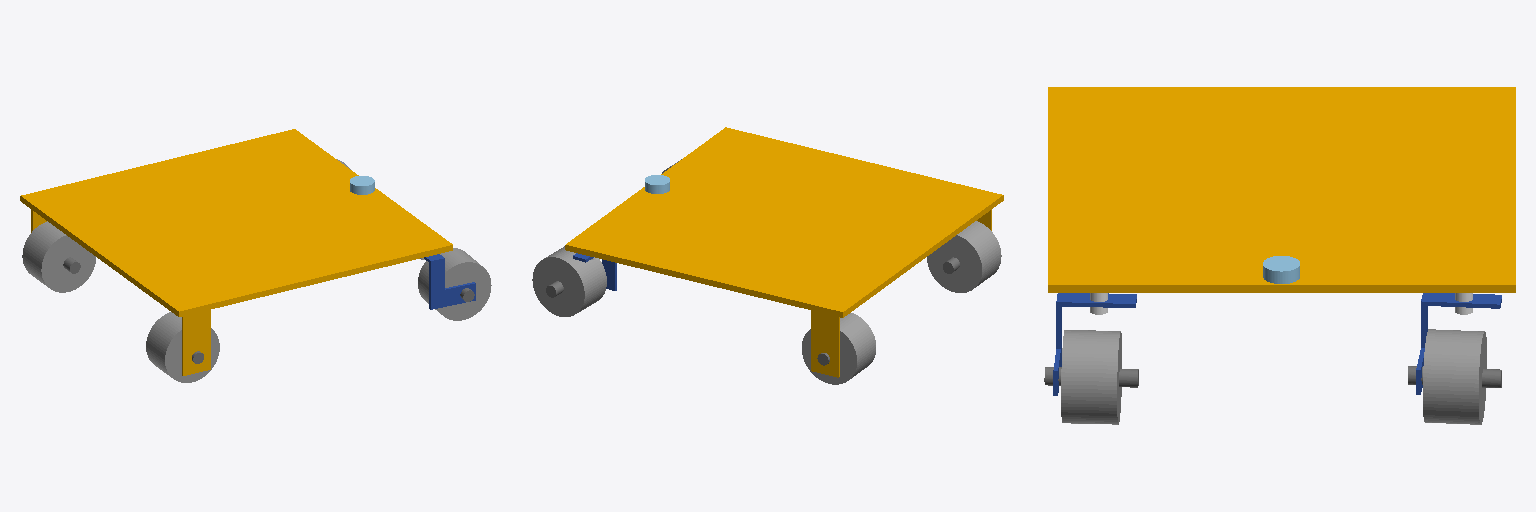
robot.urdf — walker:
<?xml version="1.0" ?>
<!-- Generated using onshape-to-robot -->
<!-- Onshape https://cad.onshape.com/documents/e7eaa5f69740a46df86640b5/w/4beb8b55b0f9d7a3251ff0fb/e/df4ddac1db6dbfc8b2ea36b0 -->
<robot name="walker">
  <!-- Link part4__cut_extrude1 -->
  <link name="part4__cut_extrude1">
    <inertial>
      <origin xyz="0.00737596 0.00816701 -0.00747482" rpy="0 0 0"/>
      <mass value="7.16145"/>
      <inertia ixx="0.158992" ixy="0" ixz="-0.00462613" iyy="0.161486" iyz="0" izz="0.316607"/>
    </inertial>
    <!-- Part part2__boss_extrude1 -->
    <visual>
      <origin xyz="-0.197626 -0.236833 -0.0917082" rpy="-3.14159 -0 -3.14159"/>
      <geometry>
        <mesh filename="package://my_robot_description/meshes/part2__boss_extrude1.stl"/>
      </geometry>
      <material name="part2__boss_extrude1_material">
        <color rgba="0.498039 0.498039 0.498039 1"/>
      </material>
    </visual>
    <collision>
      <origin xyz="-0.197626 -0.236833 -0.0917082" rpy="-3.14159 -0 -3.14159"/>
      <geometry>
        <mesh filename="package://my_robot_description/meshes/part2__boss_extrude1.stl"/>
      </geometry>
    </collision>
    <!-- Part part4__cut_extrude1 -->
    <visual>
      <origin xyz="0.263231 0.258167 -0.00920823" rpy="1.5708 -0 3.14159"/>
      <geometry>
        <mesh filename="package://my_robot_description/meshes/part4__cut_extrude1.stl"/>
      </geometry>
      <material name="part4__cut_extrude1_material">
        <color rgba="0.980392 0.713725 0.00392157 1"/>
      </material>
    </visual>
    <collision>
      <origin xyz="0.263231 0.258167 -0.00920823" rpy="1.5708 -0 3.14159"/>
      <geometry>
        <mesh filename="package://my_robot_description/meshes/part4__cut_extrude1.stl"/>
      </geometry>
    </collision>
    <!-- Part part5__boss_extrude1 -->
    <visual>
      <origin xyz="0.243654 -0.186833 -0.0392082" rpy="1.5708 -0 3.14159"/>
      <geometry>
        <mesh filename="package://my_robot_description/meshes/part5__boss_extrude1.stl"/>
      </geometry>
      <material name="part5__boss_extrude1_material">
        <color rgba="0.917647 0.917647 0.917647 1"/>
      </material>
    </visual>
    <collision>
      <origin xyz="0.243654 -0.186833 -0.0392082" rpy="1.5708 -0 3.14159"/>
      <geometry>
        <mesh filename="package://my_robot_description/meshes/part5__boss_extrude1.stl"/>
      </geometry>
    </collision>
    <!-- Part part6__boss_extrude1 -->
    <visual>
      <origin xyz="0.241831 0.00816701 0.000791767" rpy="1.5708 -0 3.14159"/>
      <geometry>
        <mesh filename="package://my_robot_description/meshes/part6__boss_extrude1.stl"/>
      </geometry>
      <material name="part6__boss_extrude1_material">
        <color rgba="0.615686 0.811765 0.929412 1"/>
      </material>
    </visual>
    <collision>
      <origin xyz="0.241831 0.00816701 0.000791767" rpy="1.5708 -0 3.14159"/>
      <geometry>
        <mesh filename="package://my_robot_description/meshes/part6__boss_extrude1.stl"/>
      </geometry>
    </collision>
    <!-- Part part2__boss_extrude1_2 -->
    <visual>
      <origin xyz="-0.197626 0.253167 -0.0917082" rpy="-0 -0 3.14159"/>
      <geometry>
        <mesh filename="package://my_robot_description/meshes/part2__boss_extrude1.stl"/>
      </geometry>
      <material name="part2__boss_extrude1_2_material">
        <color rgba="0.498039 0.498039 0.498039 1"/>
      </material>
    </visual>
    <collision>
      <origin xyz="-0.197626 0.253167 -0.0917082" rpy="-0 -0 3.14159"/>
      <geometry>
        <mesh filename="package://my_robot_description/meshes/part2__boss_extrude1.stl"/>
      </geometry>
    </collision>
    <!-- Part part5__boss_extrude1_2 -->
    <visual>
      <origin xyz="0.243654 0.203167 -0.0392082" rpy="1.5708 0 3.14159"/>
      <geometry>
        <mesh filename="package://my_robot_description/meshes/part5__boss_extrude1.stl"/>
      </geometry>
      <material name="part5__boss_extrude1_2_material">
        <color rgba="0.917647 0.917647 0.917647 1"/>
      </material>
    </visual>
    <collision>
      <origin xyz="0.243654 0.203167 -0.0392082" rpy="1.5708 0 3.14159"/>
      <geometry>
        <mesh filename="package://my_robot_description/meshes/part5__boss_extrude1.stl"/>
      </geometry>
    </collision>
  </link>
  
  <!-- Link part1__cut_extrude1 -->
  <link name="part1__cut_extrude1">
    <inertial>
      <origin xyz="0 0 -0" rpy="0 0 0"/>
      <mass value="0.497628"/>
      <inertia ixx="0.000472747" ixy="-0" ixz="-0" iyy="0.000472747" iyz="-0" izz="0.000646917"/>
    </inertial>
    <!-- Part part1__cut_extrude1 -->
    <visual>
      <origin xyz="0 0 0.03" rpy="-1.5708 0 -0"/>
      <geometry>
        <mesh filename="package://my_robot_description/meshes/part1__cut_extrude1.stl"/>
      </geometry>
      <material name="part1__cut_extrude1_material">
        <color rgba="0.647059 0.647059 0.647059 1"/>
      </material>
    </visual>
    <!-- cylinder instead of mesh - Gazebo wheels grip properly with a simple shape -->
    <collision>
      <origin xyz="0 0 0" rpy="0 0 0"/>
      <geometry>
        <cylinder radius="0.05" length="0.06"/>
      </geometry>
    </collision>
  </link>
  <!-- Joint from part4__cut_extrude1 to part1__cut_extrude1 -->
  <joint name="left_wheel" type="continuous">
    <origin xyz="-0.197626 0.203167 -0.0917082" rpy="-1.5708 -0.0573371 -0"/>
    <parent link="part4__cut_extrude1"/>
    <child link="part1__cut_extrude1"/>
    <axis xyz="0 0 1"/>
    <limit effort="10" velocity="10"/>
  </joint>
  <!-- Link part1__cut_extrude1_2 -->
  <link name="part1__cut_extrude1_2">
    <inertial>
      <origin xyz="-0 0 0" rpy="0 0 0"/>
      <mass value="0.497628"/>
      <inertia ixx="0.000472747" ixy="-0" ixz="-0" iyy="0.000472747" iyz="0" izz="0.000646917"/>
    </inertial>
    <!-- Part part1__cut_extrude1_2 -->
    <visual>
      <origin xyz="0 0 0.03" rpy="-1.5708 0 -0"/>
      <geometry>
        <mesh filename="package://my_robot_description/meshes/part1__cut_extrude1.stl"/>
      </geometry>
      <material name="part1__cut_extrude1_2_material">
        <color rgba="0.647059 0.647059 0.647059 1"/>
      </material>
    </visual>
    <!-- cylinder instead of mesh - Gazebo wheels grip properly with a simple shape -->
    <collision>
      <origin xyz="0 0 0" rpy="0 0 0"/>
      <geometry>
        <cylinder radius="0.05" length="0.06"/>
      </geometry>
    </collision>
  </link>
  <!-- Joint from part4__cut_extrude1 to part1__cut_extrude1_2 -->
  <joint name="right_wheel" type="continuous">
    <origin xyz="-0.197626 -0.186833 -0.0917082" rpy="1.5708 0 -0"/>
    <parent link="part4__cut_extrude1"/>
    <child link="part1__cut_extrude1_2"/>
    <axis xyz="0 0 -1"/>
    <limit effort="10" velocity="10"/>
  </joint>
  <!-- Link part3__cut_extrude1 -->
  <link name="part3__cut_extrude1">
    <inertial>
      <origin xyz="0.0316928 -0.0156171 -0.0549314" rpy="0 0 0"/>
      <mass value="0.154303"/>
      <inertia ixx="0.000245313" ixy="-2.67644e-05" ixz="7.41806e-05" iyy="0.000202046" iyz="-2.78331e-06" izz="0.000224642"/>
    </inertial>
    <!-- Part part3__cut_extrude1 -->
    <visual>
      <origin xyz="-0.0126879 -0.04 -0.085" rpy="-3.14159 -0 0"/>
      <geometry>
        <mesh filename="package://my_robot_description/meshes/part3__cut_extrude1.stl"/>
      </geometry>
      <material name="part3__cut_extrude1_material">
        <color rgba="0.231373 0.380392 0.705882 1"/>
      </material>
    </visual>
    <collision>
      <origin xyz="-0.0126879 -0.04 -0.085" rpy="-3.14159 -0 0"/>
      <geometry>
        <mesh filename="package://my_robot_description/meshes/part3__cut_extrude1.stl"/>
      </geometry>
    </collision>
    <!-- Part part2__boss_extrude1_3 -->
    <visual>
      <origin xyz="0.0498121 -0.055 -0.07" rpy="0 0 0"/>
      <geometry>
        <mesh filename="package://my_robot_description/meshes/part2__boss_extrude1.stl"/>
      </geometry>
      <material name="part2__boss_extrude1_3_material">
        <color rgba="0.498039 0.498039 0.498039 1"/>
      </material>
    </visual>
    <collision>
      <origin xyz="0.0498121 -0.055 -0.07" rpy="0 0 0"/>
      <geometry>
        <mesh filename="package://my_robot_description/meshes/part2__boss_extrude1.stl"/>
      </geometry>
    </collision>
  </link>
  <!-- Link part1__cut_extrude1_3 -->
  <link name="part1__cut_extrude1_3">
    <inertial>
      <origin xyz="-0 0 -0" rpy="0 0 0"/>
      <mass value="0.497628"/>
      <inertia ixx="0.000472747" ixy="0" ixz="-0" iyy="0.000472747" iyz="-0" izz="0.000646917"/>
    </inertial>
    <!-- Part part1__cut_extrude1_3 -->
    <visual>
      <origin xyz="-0 0 0.03" rpy="-1.5708 0 0"/>
      <geometry>
        <mesh filename="package://my_robot_description/meshes/part1__cut_extrude1.stl"/>
      </geometry>
      <material name="part1__cut_extrude1_3_material">
        <color rgba="0.647059 0.647059 0.647059 1"/>
      </material>
    </visual>
    <!-- cylinder instead of mesh; radius 2.5 mm under the real 0.05 so the caster
         sits level with the drive wheels (in CAD it reaches 2.5 mm lower) -->
    <collision>
      <origin xyz="0 0 0" rpy="0 0 0"/>
      <geometry>
        <cylinder radius="0.0475" length="0.06"/>
      </geometry>
    </collision>
  </link>
  <!-- Joint from part3__cut_extrude1 to part1__cut_extrude1_3 -->
  <joint name="caster_left_wheel" type="continuous">
    <origin xyz="0.0498121 -0.005 -0.07" rpy="1.5708 0.143246 3.14159"/>
    <parent link="part3__cut_extrude1"/>
    <child link="part1__cut_extrude1_3"/>
    <axis xyz="0 0 1"/>
    <limit effort="10" velocity="10"/>
  </joint>
  <!-- Joint from part4__cut_extrude1 to part3__cut_extrude1 -->
  <joint name="caster_left_swivel_continuous" type="continuous">
    <origin xyz="0.243654 0.203167 -0.0242082" rpy="0 -0 -0.0947716"/>
    <parent link="part4__cut_extrude1"/>
    <child link="part3__cut_extrude1"/>
    <axis xyz="0 0 1"/>
    <limit effort="10" velocity="10"/>
  </joint>
  <!-- Link part3__cut_extrude1_2 -->
  <link name="part3__cut_extrude1_2">
    <inertial>
      <origin xyz="0.0316928 -0.0156171 -0.0549314" rpy="0 0 0"/>
      <mass value="0.154303"/>
      <inertia ixx="0.000245313" ixy="-2.67644e-05" ixz="7.41806e-05" iyy="0.000202046" iyz="-2.78331e-06" izz="0.000224642"/>
    </inertial>
    <!-- Part part3__cut_extrude1_2 -->
    <visual>
      <origin xyz="-0.0126879 -0.04 -0.085" rpy="-3.14159 0 0"/>
      <geometry>
        <mesh filename="package://my_robot_description/meshes/part3__cut_extrude1.stl"/>
      </geometry>
      <material name="part3__cut_extrude1_2_material">
        <color rgba="0.231373 0.380392 0.705882 1"/>
      </material>
    </visual>
    <collision>
      <origin xyz="-0.0126879 -0.04 -0.085" rpy="-3.14159 0 0"/>
      <geometry>
        <mesh filename="package://my_robot_description/meshes/part3__cut_extrude1.stl"/>
      </geometry>
    </collision>
    <!-- Part part2__boss_extrude1_4 -->
    <visual>
      <origin xyz="0.0498121 -0.055 -0.07" rpy="0 0 0"/>
      <geometry>
        <mesh filename="package://my_robot_description/meshes/part2__boss_extrude1.stl"/>
      </geometry>
      <material name="part2__boss_extrude1_4_material">
        <color rgba="0.498039 0.498039 0.498039 1"/>
      </material>
    </visual>
    <collision>
      <origin xyz="0.0498121 -0.055 -0.07" rpy="0 0 0"/>
      <geometry>
        <mesh filename="package://my_robot_description/meshes/part2__boss_extrude1.stl"/>
      </geometry>
    </collision>
  </link>
  <!-- Link part1__cut_extrude1_4 -->
  <link name="part1__cut_extrude1_4">
    <inertial>
      <origin xyz="0 0 0" rpy="0 0 0"/>
      <mass value="0.497628"/>
      <inertia ixx="0.000472747" ixy="-0" ixz="0" iyy="0.000472747" iyz="0" izz="0.000646917"/>
    </inertial>
    <!-- Part part1__cut_extrude1_4 -->
    <visual>
      <origin xyz="0 0 0.03" rpy="-1.5708 -0 0"/>
      <geometry>
        <mesh filename="package://my_robot_description/meshes/part1__cut_extrude1.stl"/>
      </geometry>
      <material name="part1__cut_extrude1_4_material">
        <color rgba="0.647059 0.647059 0.647059 1"/>
      </material>
    </visual>
    <!-- cylinder instead of mesh; radius 2.5 mm under the real 0.05 so the caster
         sits level with the drive wheels (in CAD it reaches 2.5 mm lower) -->
    <collision>
      <origin xyz="0 0 0" rpy="0 0 0"/>
      <geometry>
        <cylinder radius="0.0475" length="0.06"/>
      </geometry>
    </collision>
  </link>
  <!-- Joint from part3__cut_extrude1_2 to part1__cut_extrude1_4 -->
  <joint name="caster_right_wheel" type="continuous">
    <origin xyz="0.0498121 -0.005 -0.07" rpy="-1.5708 7.2504e-08 0"/>
    <parent link="part3__cut_extrude1_2"/>
    <child link="part1__cut_extrude1_4"/>
    <axis xyz="0 0 1"/>
    <limit effort="10" velocity="10"/>
  </joint>
  <!-- Joint from part4__cut_extrude1 to part3__cut_extrude1_2 -->
  <joint name="caster_right_swivel_continuous" type="continuous">
    <origin xyz="0.243654 -0.186833 -0.0242082" rpy="0 -0 -0.0573371"/>
    <parent link="part4__cut_extrude1"/>
    <child link="part3__cut_extrude1_2"/>
    <axis xyz="0 0 1"/>
    <limit effort="10" velocity="10"/>
  </joint>
</robot>

--- What the picture shows (computed from the rendered views, not written in the file) ---
3 views of the same robot in one strip: view 1: azimuth 30°, elevation 25°; view 2: azimuth 150°, elevation 25°; view 3: azimuth 270°, elevation 25° (orthographic).
Model walker with 7 links and 6 joints (6 continuous), rooted at part4__cut_extrude1, posed all joints at 0.
Visible links, largest first — view 1: part4__cut_extrude1, part1__cut_extrude1, part1__cut_extrude1_4, part1__cut_extrude1_2, part3__cut_extrude1_2; view 2: part4__cut_extrude1, part1__cut_extrude1_3, part1__cut_extrude1_2, part1__cut_extrude1, part3__cut_extrude1; view 3: part4__cut_extrude1, part1__cut_extrude1_3, part1__cut_extrude1_4, part3__cut_extrude1_2, part3__cut_extrude1.
Boxes of the visible links, bbox=[...] form: part4__cut_extrude1: bbox=[20, 129, 452, 375]; part1__cut_extrude1: bbox=[22, 221, 95, 292]; part1__cut_extrude1_4: bbox=[418, 248, 491, 320]; part1__cut_extrude1_2: bbox=[146, 312, 219, 382]; part3__cut_extrude1_2: bbox=[424, 254, 475, 309]; part4__cut_extrude1: bbox=[565, 127, 1003, 377]; part1__cut_extrude1_3: bbox=[532, 246, 606, 316]; part1__cut_extrude1_2: bbox=[927, 221, 1001, 292]; part1__cut_extrude1: bbox=[802, 313, 875, 384]; part3__cut_extrude1: bbox=[546, 253, 616, 297]; part4__cut_extrude1: bbox=[1048, 87, 1515, 314]; part1__cut_extrude1_3: bbox=[1423, 329, 1486, 424]; part1__cut_extrude1_4: bbox=[1061, 330, 1121, 424]; part3__cut_extrude1_2: bbox=[1044, 293, 1138, 395]; part3__cut_extrude1: bbox=[1408, 293, 1501, 394].
Bounding box of the posed robot: 0.593 × 0.5033 × 0.16 m (x, y, z).
14 mesh visuals loaded from 6 distinct referenced files (6 binary STL).
